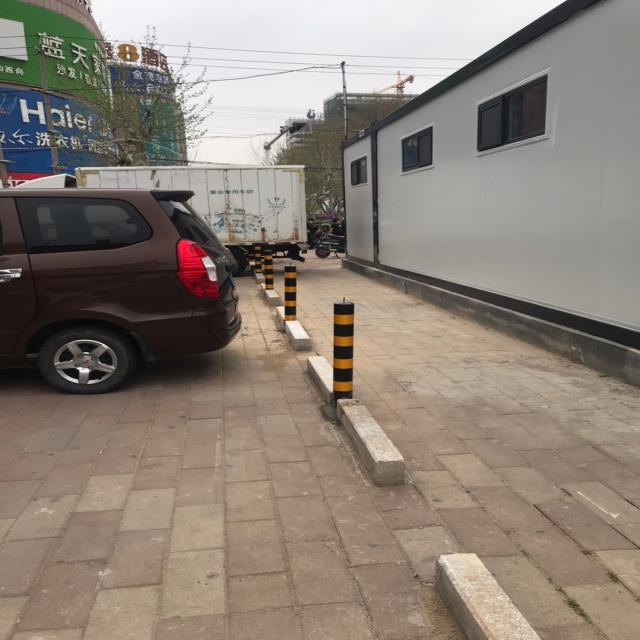car: (1, 188, 242, 394)
motorbike: (313, 225, 345, 257)
truck: (12, 163, 306, 276)
warning_column: (328, 300, 355, 405), (280, 264, 298, 320), (261, 249, 275, 288), (252, 241, 262, 272)
